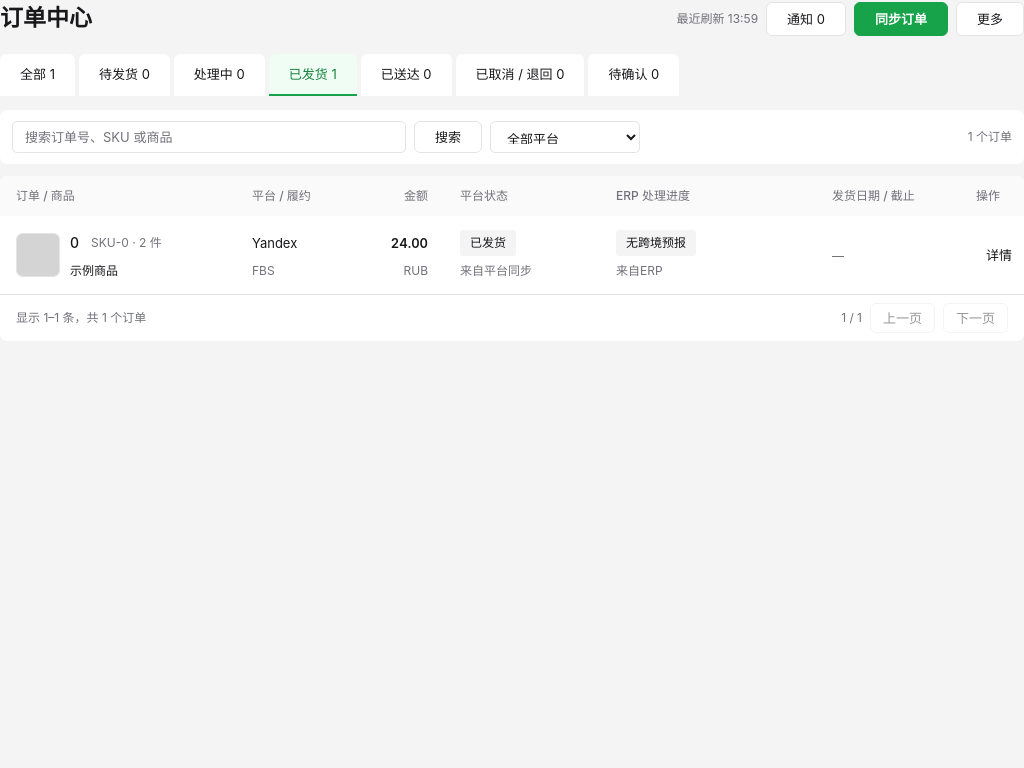
Scenario: 紧凑订单列表 › Yandex DELIVERY / READY_TO_SHIP 在列表与详情区分平台主状态和附注
The image size is (1024, 768).
Check: the text with class "order-badge" reads "已发货", box [470,235,506,250]
What coordinates should you click on to do the following:
click the link with aria-label "查看订单 0"
I would click on:
 (999, 255)
Its box is [986,247,1012,263].
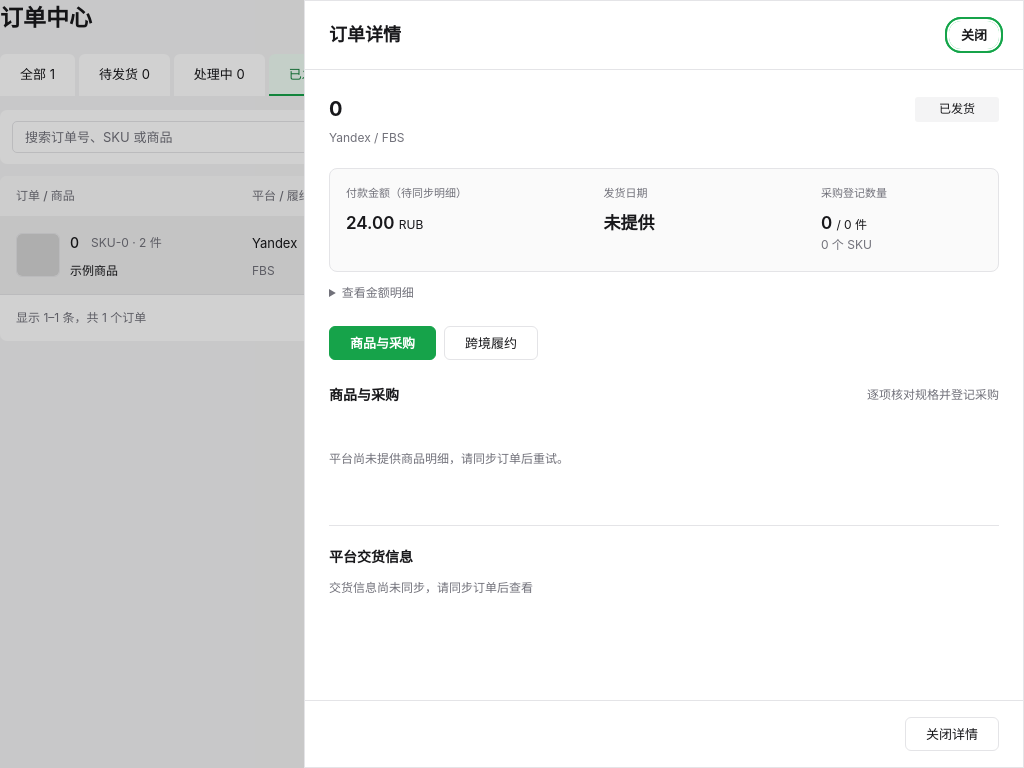
Check: the text with class "order-badge" reads "已发货", box [939,101,975,116]
